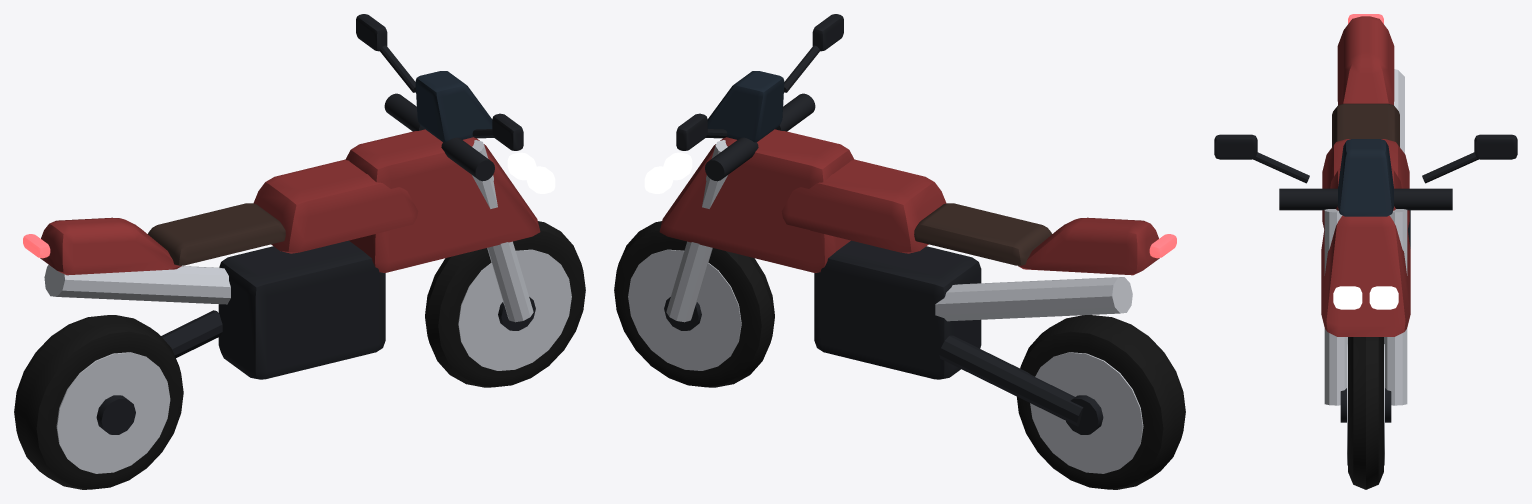
The model's file is sportbike.glb.
3 views of the same model, side by side, from view 1: azimuth 30°, elevation 25°; view 2: azimuth 150°, elevation 25°; view 3: azimuth 270°, elevation 25° (orthographic). The views are drawn at different scales.
Parts seen in each view (by area): view 1: part-paint, part-trim, part-chrome, part-tyre, part-seat, part-glass, headlight--1; view 2: part-paint, part-trim, part-chrome, part-tyre, part-seat, part-glass, headlight-1; view 3: part-paint, part-trim, part-tyre, part-chrome, part-glass, part-seat, headlight-1, headlight--1.
Part boxes in pixels (x1,y1,x2,y2): part-paint: (40,129,540,275); part-trim: (96,14,535,434); part-chrome: (44,140,571,473); part-tyre: (14,221,585,489); part-seat: (148,203,285,265); part-glass: (415,71,492,142); headlight--1: (526,166,555,193); part-paint: (659,129,1159,275); part-trim: (664,14,1103,434); part-chrome: (628,140,1143,473); part-tyre: (614,221,1185,489); part-seat: (914,203,1051,265); part-glass: (707,71,784,142); headlight-1: (644,166,673,193); part-paint: (1321,16,1410,336); part-trim: (1214,134,1517,422); part-tyre: (1348,337,1383,489); part-chrome: (1324,69,1407,465); part-glass: (1338,139,1393,216); part-seat: (1332,103,1399,146); headlight-1: (1369,286,1398,309); headlight--1: (1333,286,1362,309).
Size of the model in its own units: 17.2 by 9.65 by 8.4.
